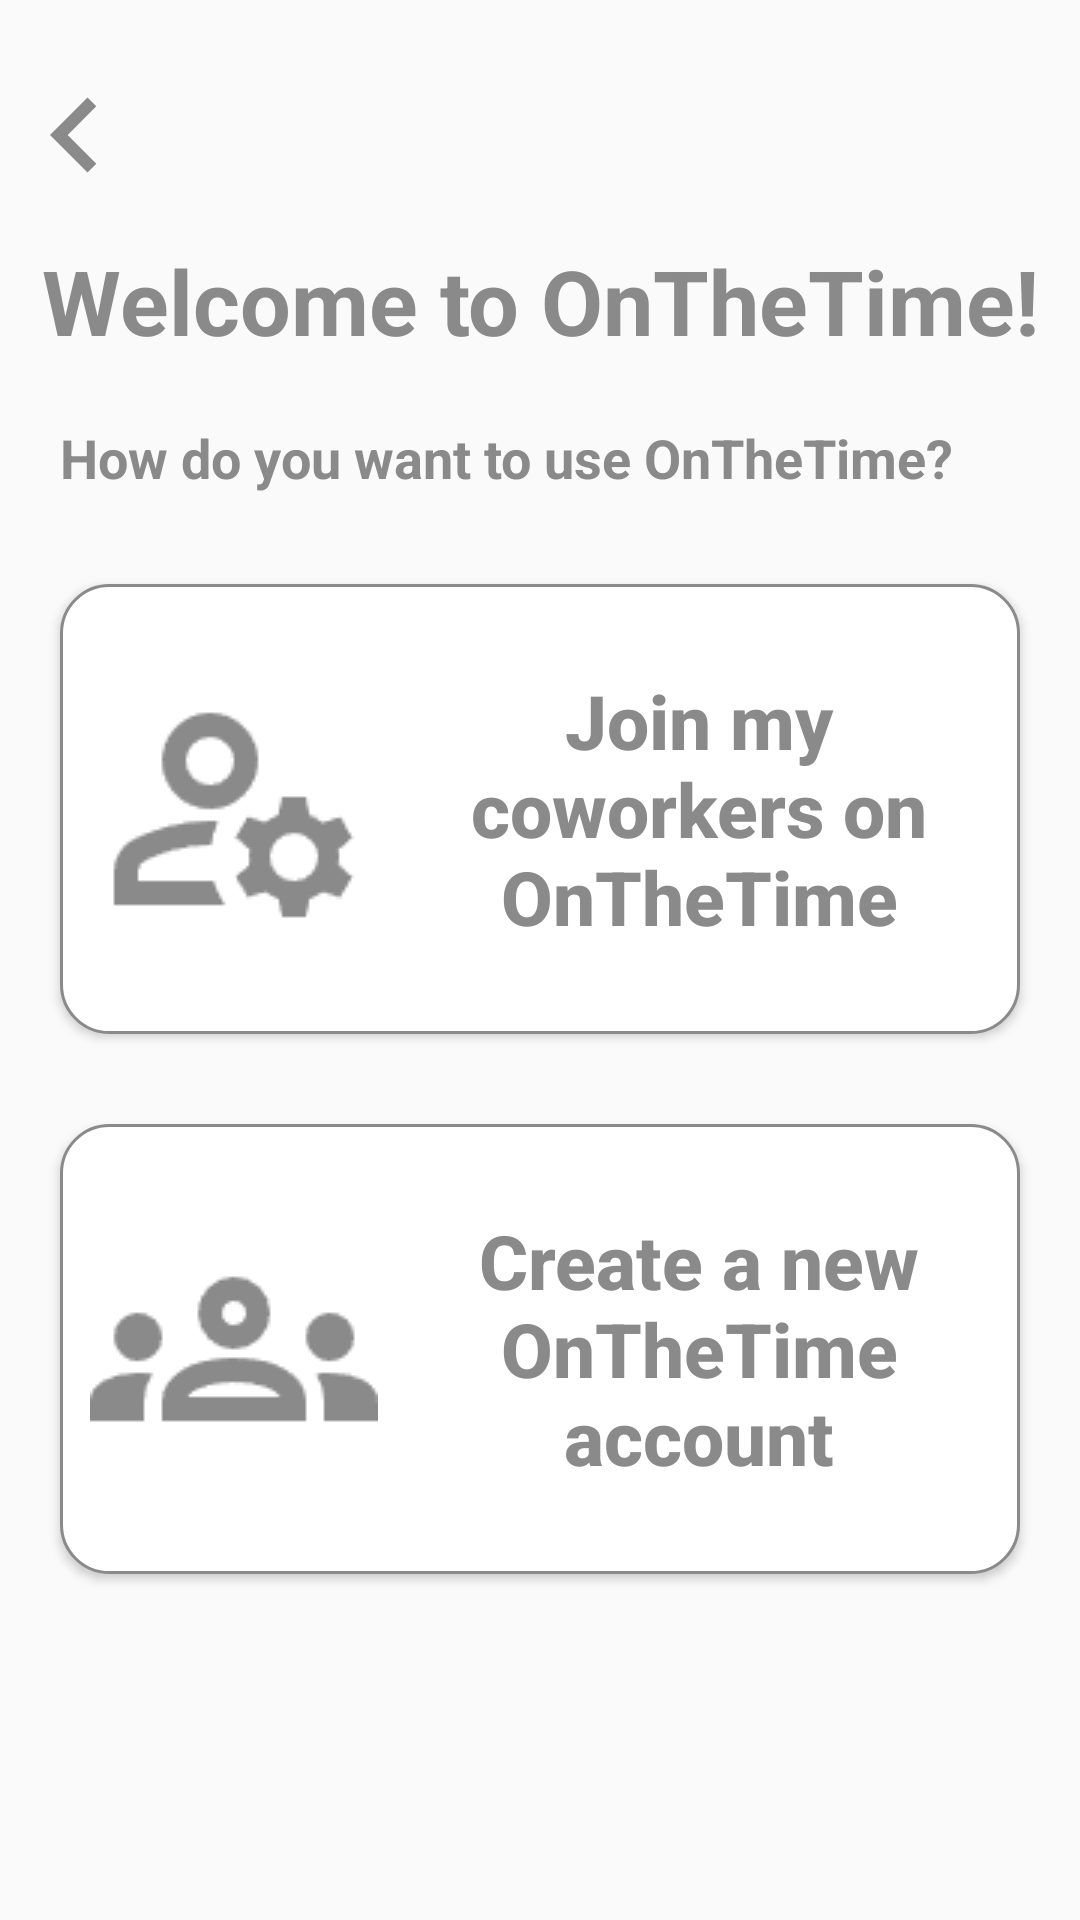

Named icons in this screenshot (1080*1920) and their bounding boxes, (x1, y1, x2, y2):
left: (50, 97, 96, 173)
